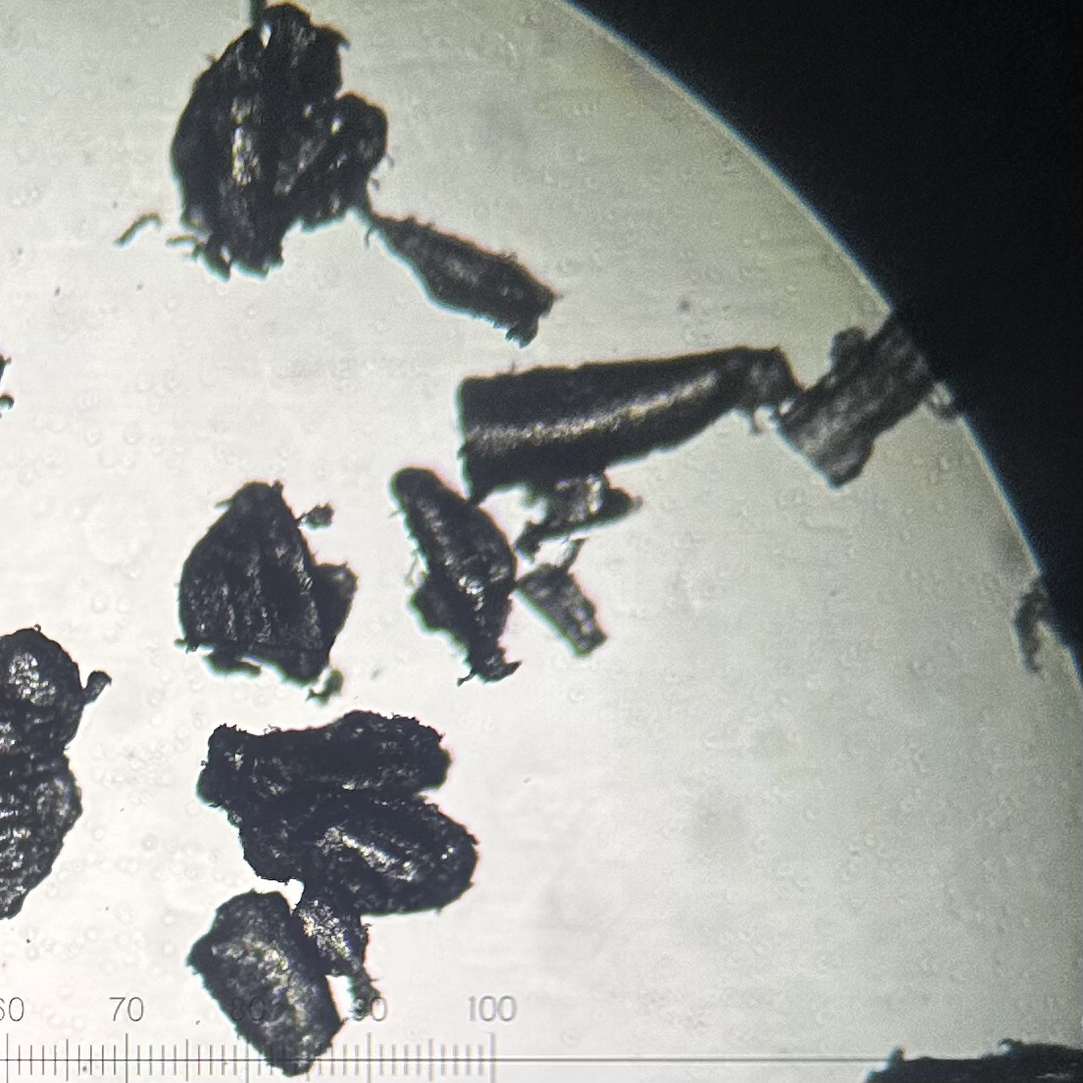microplastic: (164, 2, 394, 284), (235, 777, 487, 1025), (455, 343, 808, 508), (169, 479, 361, 691), (772, 284, 940, 490), (191, 705, 458, 833), (1, 622, 113, 923), (181, 884, 350, 1077), (385, 463, 523, 693), (361, 211, 561, 352), (511, 559, 613, 663), (859, 1036, 1083, 1083), (534, 463, 641, 544), (1007, 571, 1059, 684), (111, 210, 164, 254), (303, 665, 350, 711), (548, 537, 582, 593), (510, 518, 548, 568), (926, 385, 967, 428), (302, 499, 337, 530), (245, 1, 269, 32), (1, 351, 19, 387), (1, 390, 17, 422)
